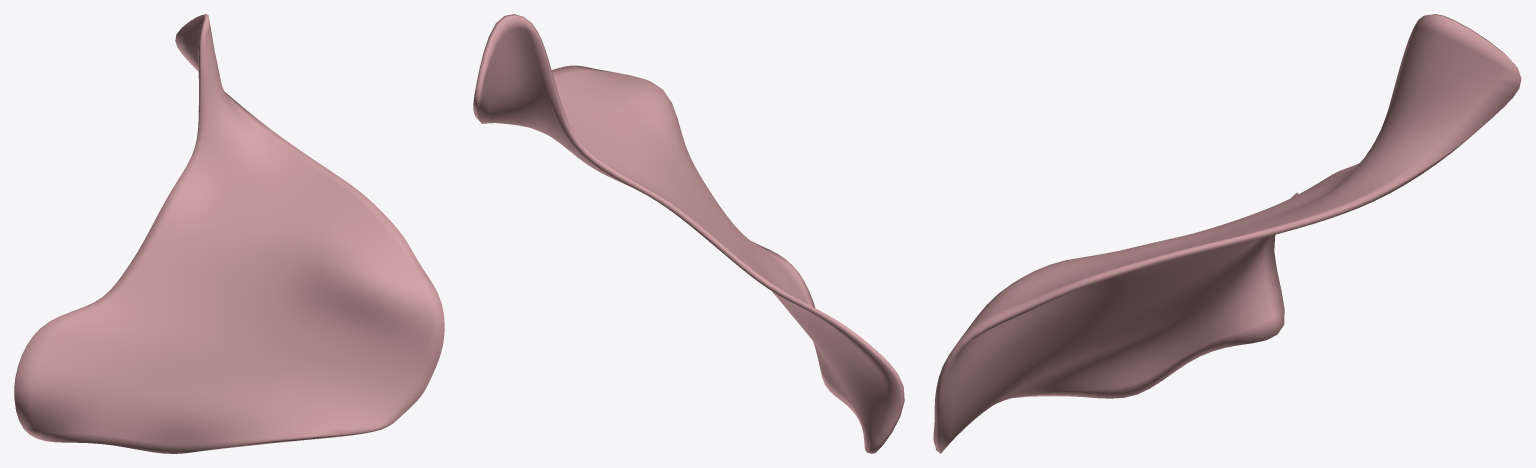
The picture shows the model from 3 angles, left to right: view 1: azimuth 30°, elevation 25°; view 2: azimuth 150°, elevation 25°; view 3: azimuth 270°, elevation 25°; orthographic projection. The views are drawn at different scales.
Parts seen in each view (by area): view 1: ZA_9bab4a8f24254c05; view 2: ZA_9bab4a8f24254c05; view 3: ZA_9bab4a8f24254c05.
Boxes of the visible parts, x1=… form: ZA_9bab4a8f24254c05: x1=14, y1=14, x2=444, y2=453; ZA_9bab4a8f24254c05: x1=473, y1=14, x2=904, y2=453; ZA_9bab4a8f24254c05: x1=933, y1=14, x2=1521, y2=453.
Bounding box in the file's own units: 0.06 × 0.0581 × 0.064.
